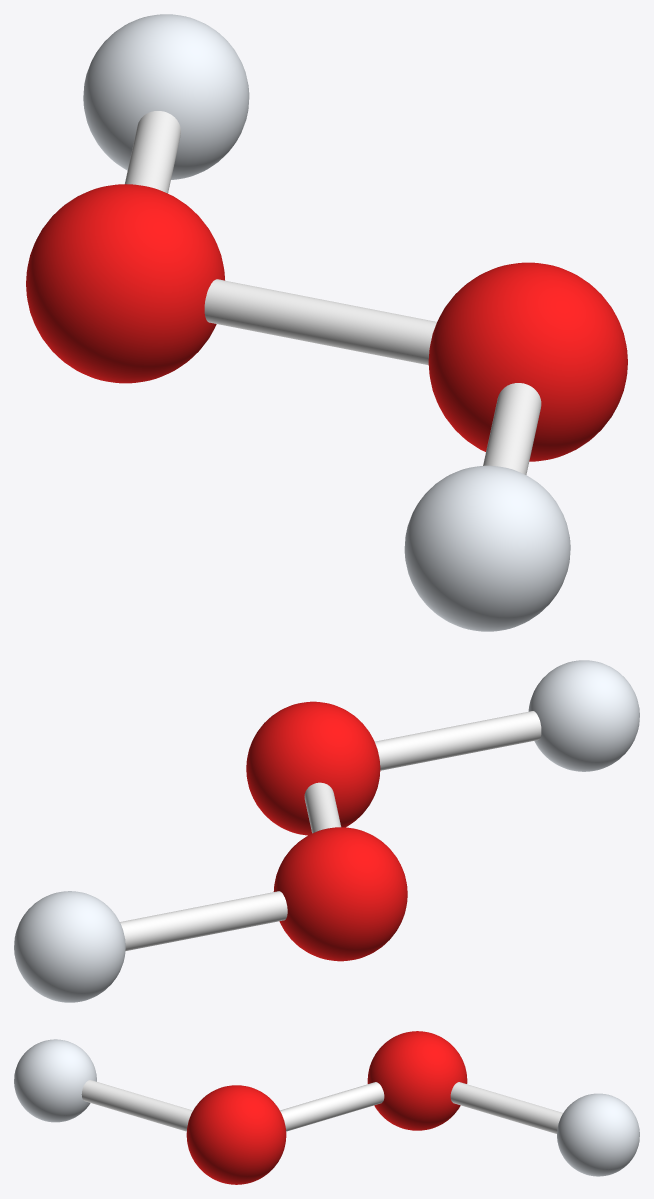
The model's file is hydrogen_peroxide.fbx.
3 views of the same model, one above another, from view 1: azimuth 30°, elevation 25°; view 2: azimuth 150°, elevation 25°; view 3: azimuth 270°, elevation 25° (orthographic). The views are drawn at different scales.
Visible parts, largest first — view 1: hydrogen_peroxide; view 2: hydrogen_peroxide; view 3: hydrogen_peroxide.
Boxes of the visible parts, x1=… form: hydrogen_peroxide: x1=26, y1=14, x2=627, y2=631; hydrogen_peroxide: x1=14, y1=660, x2=639, y2=1002; hydrogen_peroxide: x1=14, y1=1031, x2=639, y2=1184.
Bounding box in the file's own units: 82.19 × 36 × 226.
